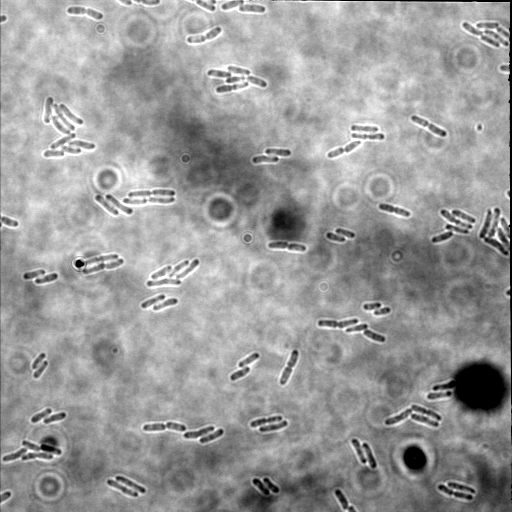Dividing: (459, 22, 501, 49), (409, 114, 448, 138), (276, 348, 300, 387), (79, 250, 120, 270), (185, 25, 223, 46), (325, 138, 363, 159), (80, 258, 126, 275), (436, 483, 474, 503), (105, 477, 140, 498), (143, 418, 188, 434), (21, 439, 63, 456), (410, 402, 443, 423), (64, 5, 104, 22), (126, 186, 177, 199), (248, 413, 285, 430), (121, 195, 177, 206), (267, 239, 308, 254), (377, 202, 413, 218), (317, 317, 360, 330), (348, 130, 385, 142), (20, 451, 54, 462)
Microcolony: (39, 97, 97, 158), (206, 63, 269, 94), (142, 255, 201, 287), (430, 205, 477, 244), (478, 207, 512, 257)
Rod: (105, 193, 135, 217), (383, 405, 414, 427), (93, 194, 120, 218), (115, 474, 147, 494), (445, 479, 478, 496), (410, 411, 441, 429), (349, 437, 368, 465), (198, 427, 226, 446), (183, 424, 216, 440), (483, 27, 509, 47), (257, 418, 289, 434), (362, 441, 378, 472), (250, 476, 272, 498), (151, 296, 181, 312), (1, 445, 27, 463), (139, 293, 166, 310), (236, 351, 260, 370), (332, 487, 351, 511), (361, 327, 387, 344), (29, 406, 53, 424), (261, 476, 282, 496), (263, 145, 292, 159), (430, 377, 456, 392), (42, 410, 69, 424), (33, 272, 60, 286), (229, 364, 250, 382), (424, 389, 453, 402), (237, 3, 268, 15), (350, 123, 381, 135), (250, 154, 281, 166), (475, 19, 501, 32), (32, 359, 48, 380), (21, 268, 46, 281), (30, 351, 48, 369), (334, 226, 357, 240), (324, 230, 347, 244), (344, 321, 368, 334), (361, 300, 383, 312), (372, 304, 392, 317), (221, 1, 247, 11)
